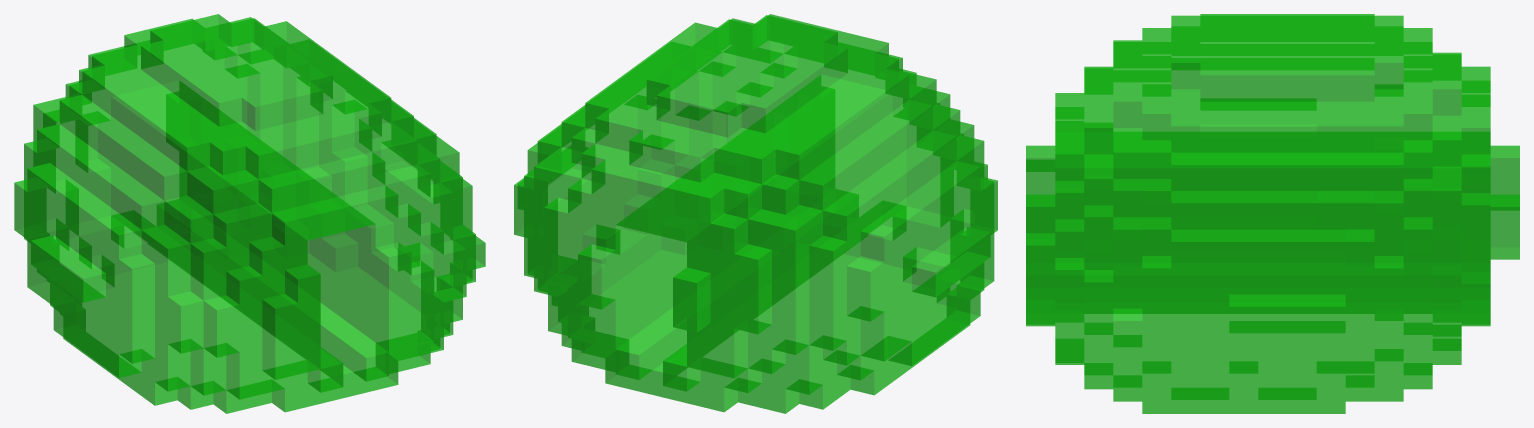
File: preview_planner_tray_base_valid.obj
3 views of the same model, side by side, from view 1: azimuth 30°, elevation 25°; view 2: azimuth 150°, elevation 25°; view 3: azimuth 270°, elevation 25° (orthographic). The views are drawn at different scales.
Parts seen in each view (by area): view 1: valid; view 2: valid; view 3: valid.
Boxes of the visible parts, x1,y1,x2,y2 form: valid: (14, 14, 485, 413); valid: (514, 14, 997, 413); valid: (1026, 14, 1519, 413).
Bounding box in the file's own units: 1.7 × 1.1 × 1.7.
